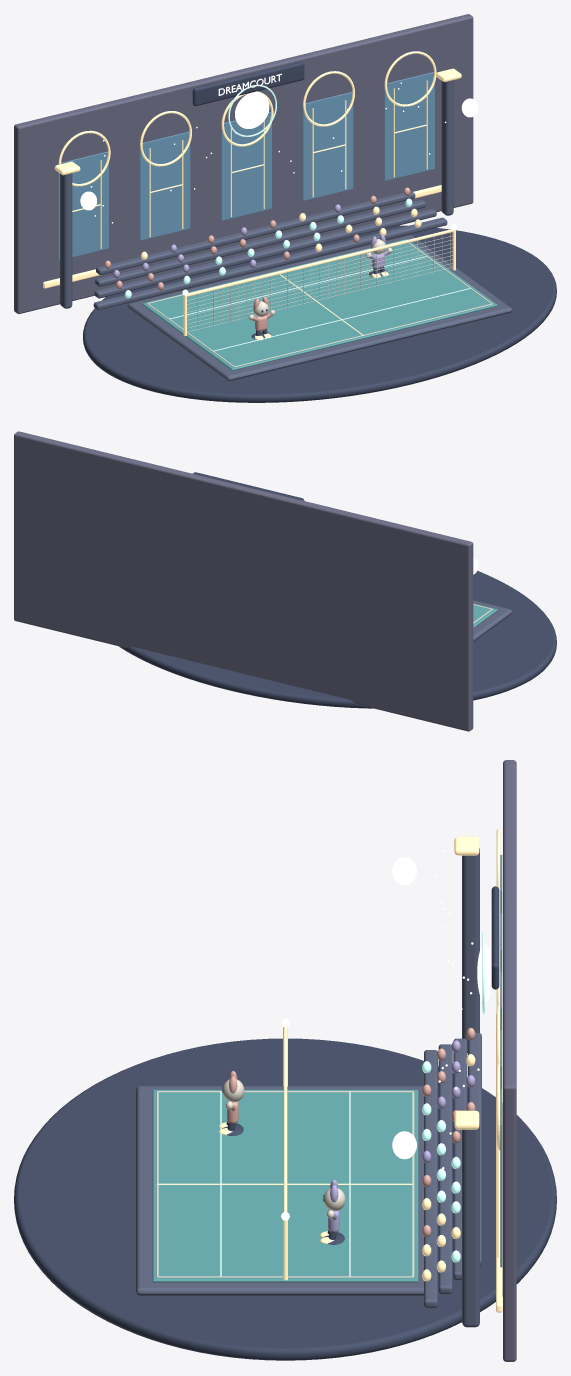
The model's file is dreamcourt.glb.
The picture shows the model from 3 angles, top to bottom: view 1: azimuth 30°, elevation 25°; view 2: azimuth 150°, elevation 25°; view 3: azimuth 270°, elevation 25°; orthographic projection. The views are drawn at different scales.
Parts seen in each view (by area): view 1: Hall / back wall, Moonlit stadium / floating plinth, Court / playing surface, Court / foundation, Window 3 / midnight glass, Window 1 / midnight glass, Window 4 / midnight glass, Window 2 / midnight glass, Window 0 / midnight glass, Stand / rear tier 0, Stand / rear tier 1, Stand / rear tier 2 (+10 smaller); view 2: Hall / back wall, Moonlit stadium / floating plinth, Court / foundation; view 3: Moonlit stadium / floating plinth, Court / playing surface, Court / foundation, Hall / back wall, Hall / fluted pillar.001, Hall / fluted pillar, Stand / rear tier 1, Stand / rear tier 0, Stand / rear tier 2, Stand / rear tier 3, Hall / back wall lower rail, Net / top binding (+1 smaller).
Boxes of the visible parts, x1,y1,x2,y2 form: Hall / back wall: (14,14,473,313); Moonlit stadium / floating plinth: (83,225,556,402); Court / playing surface: (142,239,497,370); Court / foundation: (127,235,512,380); Window 3 / midnight glass: (302,91,353,200); Window 1 / midnight glass: (139,131,190,240); Window 4 / midnight glass: (384,72,434,180); Window 2 / midnight glass: (221,111,271,220); Window 0 / midnight glass: (58,151,108,260); Stand / rear tier 0: (93,217,447,310); Stand / rear tier 1: (94,208,436,298); Stand / rear tier 2: (95,200,425,286); Hall / back wall: (14,431,473,731); Moonlit stadium / floating plinth: (119,570,556,708); Court / foundation: (473,600,511,641); Moonlit stadium / floating plinth: (14,1038,556,1360); Court / playing surface: (152,1089,418,1282); Court / foundation: (136,1086,423,1295); Hall / back wall: (503,760,516,1361); Hall / fluted pillar.001: (462,1122,479,1327); Hall / fluted pillar: (462,848,479,1053); Stand / rear tier 1: (438,1044,452,1294); Stand / rear tier 0: (424,1050,437,1307); Stand / rear tier 2: (453,1038,467,1280); Stand / rear tier 3: (468,1032,481,1265); Hall / back wall lower rail: (496,1014,502,1312); Net / top binding: (283,1027,287,1211).
Bounding box in the file's own units: 28 × 11.26 × 19.6.
